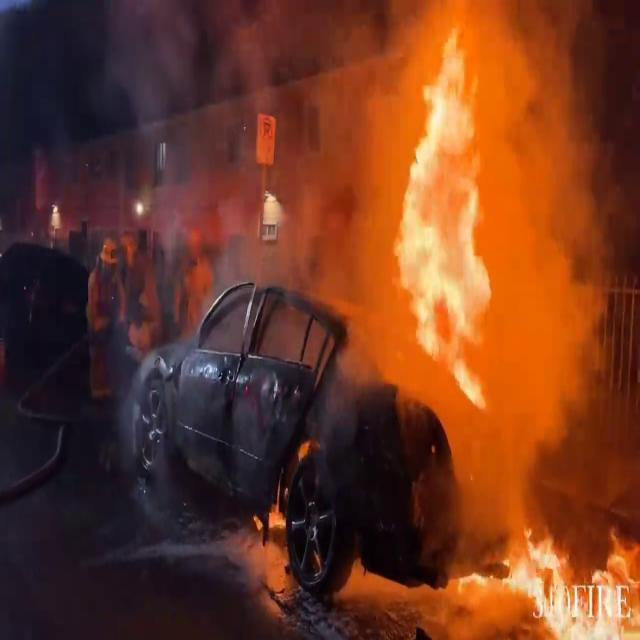Fire: (388, 0, 512, 395), (504, 501, 639, 640)
Smoke: (108, 0, 300, 283), (501, 0, 627, 411)
